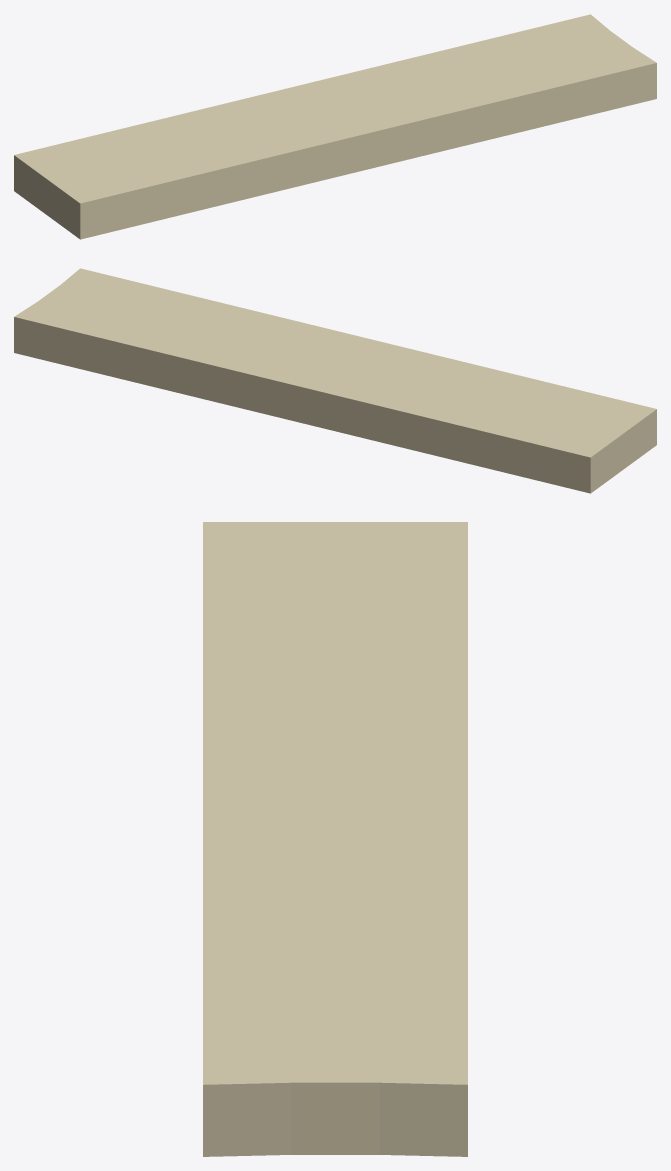
The model's file is oil-pressure-ground-bridge.glb.
3 views of the same model, one above another, from view 1: azimuth 30°, elevation 25°; view 2: azimuth 150°, elevation 25°; view 3: azimuth 270°, elevation 25° (orthographic). The views are drawn at different scales.
Visible parts, largest first — view 1: world; view 2: world; view 3: world.
Boxes of the visible parts, x1,y1,x2,y2 form: world: (14,14,656,239); world: (14,268,656,493); world: (203,522,467,1156).
Size of the model in its own units: 0.00502 by 0.0003 by 0.001.
